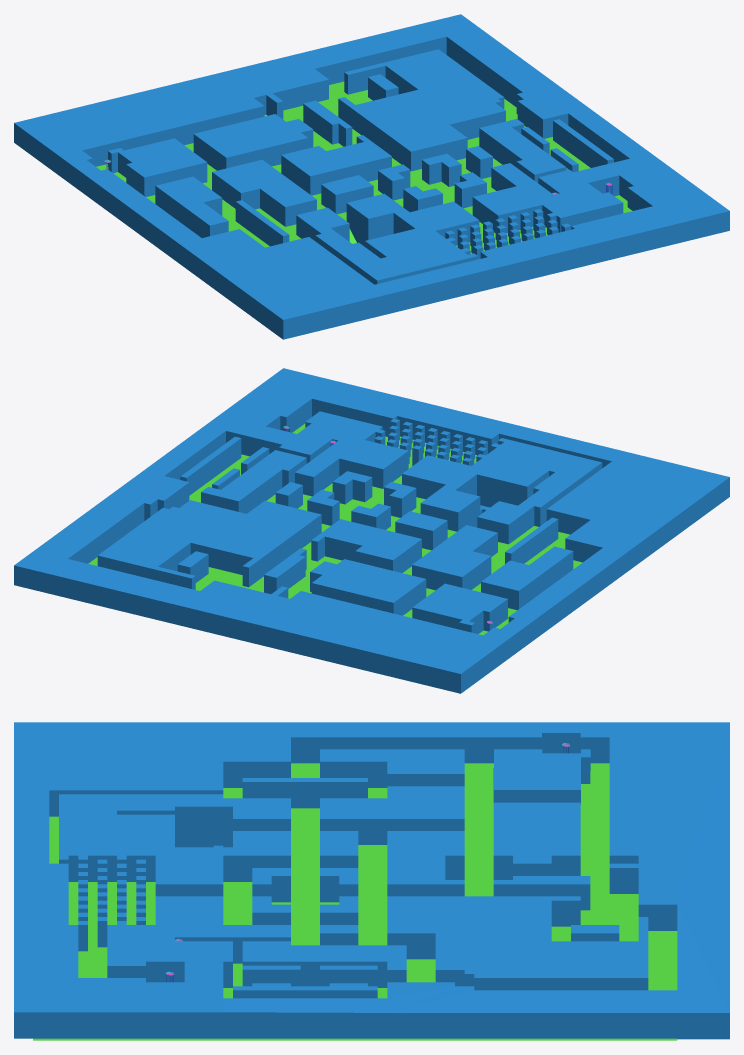
File: map.fbx
3 renders of one model, top to bottom at view 1: azimuth 30°, elevation 25°; view 2: azimuth 150°, elevation 25°; view 3: azimuth 270°, elevation 25°, orthographic. The views are drawn at different scales.
Visible parts, largest first — view 1: WALLS, GROUND; view 2: WALLS, GROUND; view 3: WALLS, GROUND.
Boxes of the visible parts, x1,y1,x2,y2 form: WALLS: (14,14,729,339); GROUND: (96,81,632,253); WALLS: (14,368,729,693); GROUND: (88,423,582,635); WALLS: (14,722,729,1039); GROUND: (33,763,677,1040).
Size of the model in its own units: 7150 by 704 by 7412.
